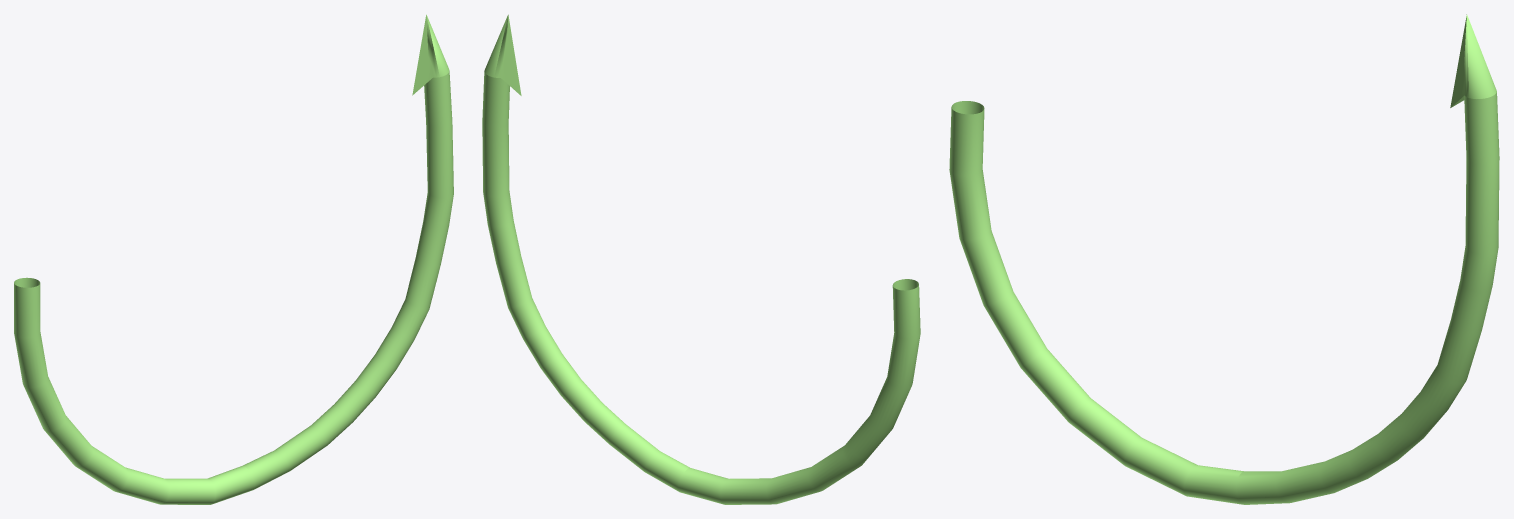
File: needle 2.fbx
3 renders of one model, left to right at view 1: azimuth 30°, elevation 25°; view 2: azimuth 150°, elevation 25°; view 3: azimuth 330°, elevation 25°, orthographic. The views are drawn at different scales.
Parts seen in each view (by area): view 1: instance_4; view 2: instance_4; view 3: instance_4.
Part boxes in pixels (bbox=[...]): instance_4: bbox=[14, 14, 453, 504]; instance_4: bbox=[482, 14, 920, 504]; instance_4: bbox=[949, 14, 1499, 504].
Size of the model in its own units: 2.29 by 36.75 by 35.22.
